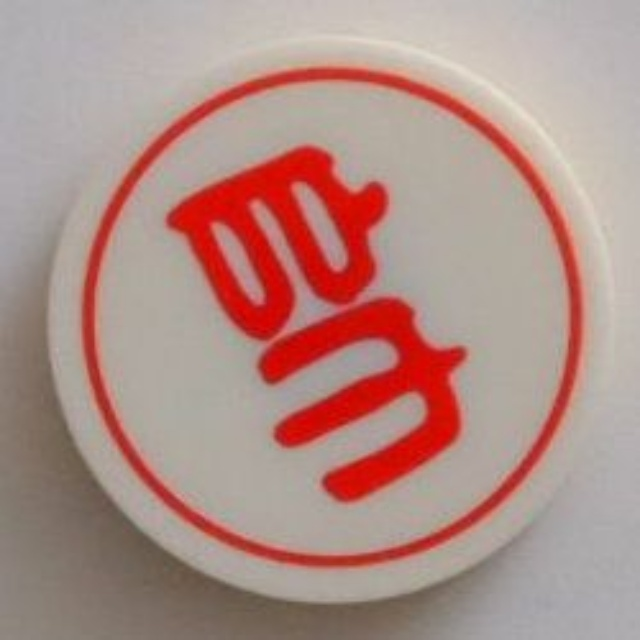red_tuong: (38, 31, 624, 609)
